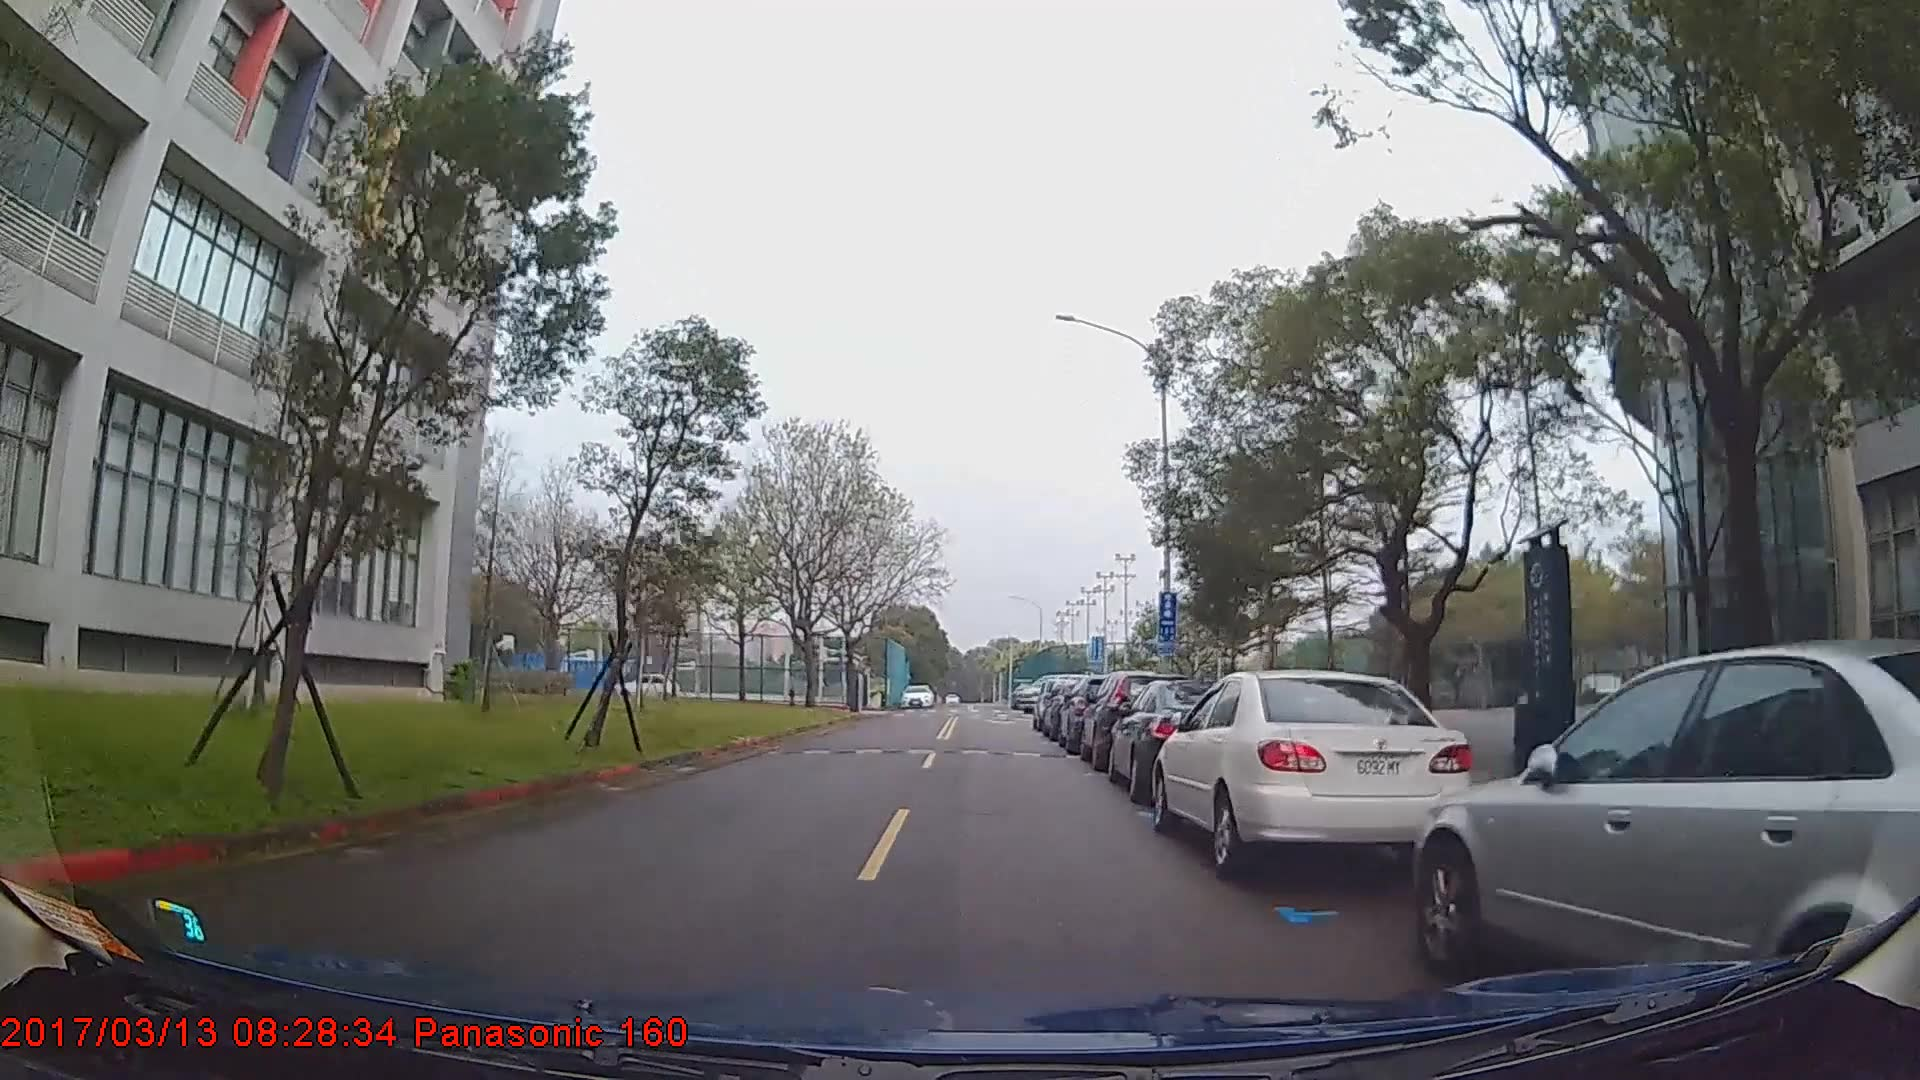vehicle: (1418, 634, 1920, 1026), (1149, 667, 1473, 877), (1106, 676, 1247, 804), (612, 671, 678, 699), (899, 684, 934, 708)
